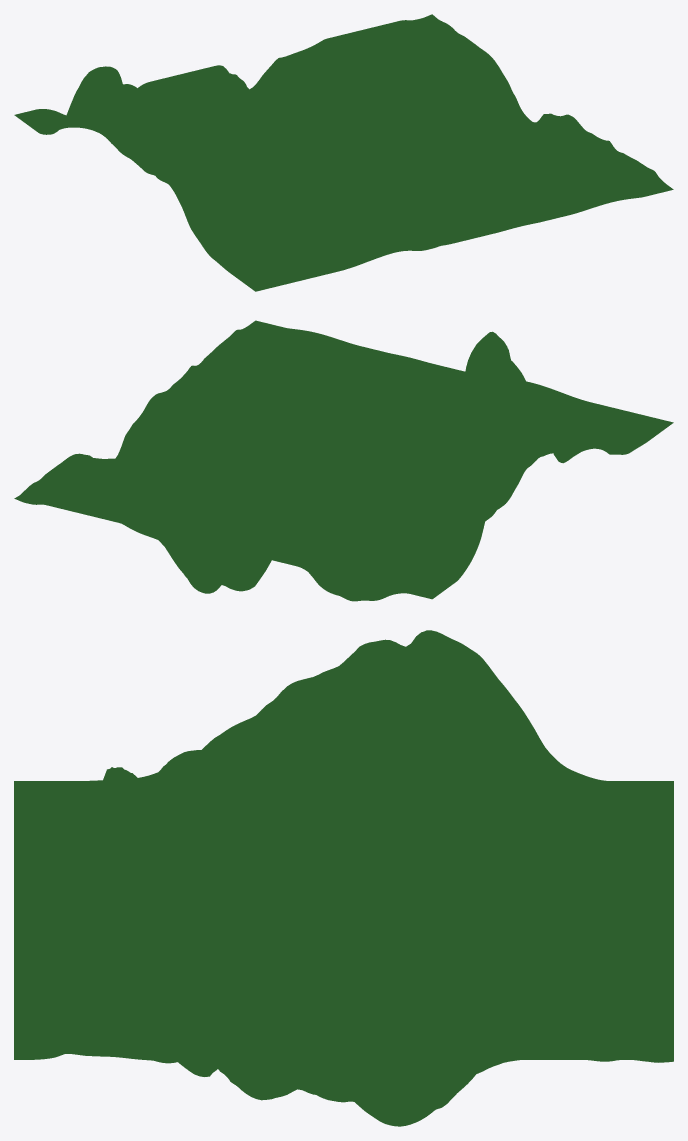
Rendered from myterrain.glb.
The picture shows the model from 3 angles, top to bottom: view 1: azimuth 30°, elevation 25°; view 2: azimuth 150°, elevation 25°; view 3: azimuth 270°, elevation 25°; orthographic projection. The views are drawn at different scales.
Size of the model in its own units: 64 by 27.17 by 64.
